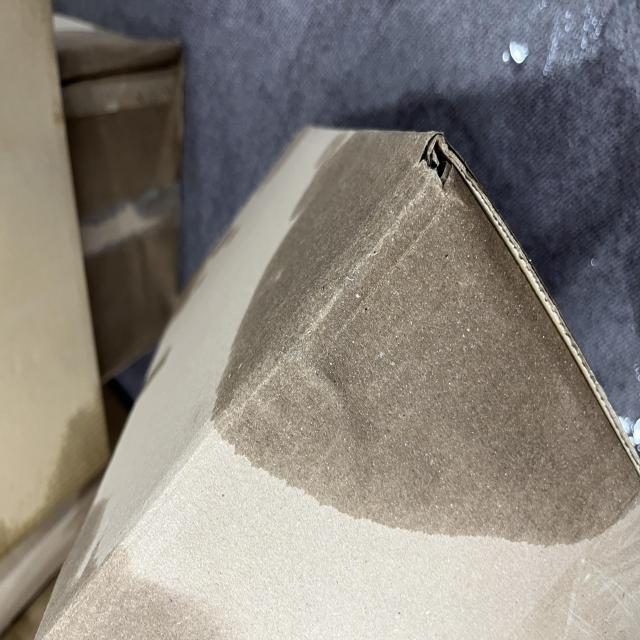wet: (58, 277, 404, 640)
